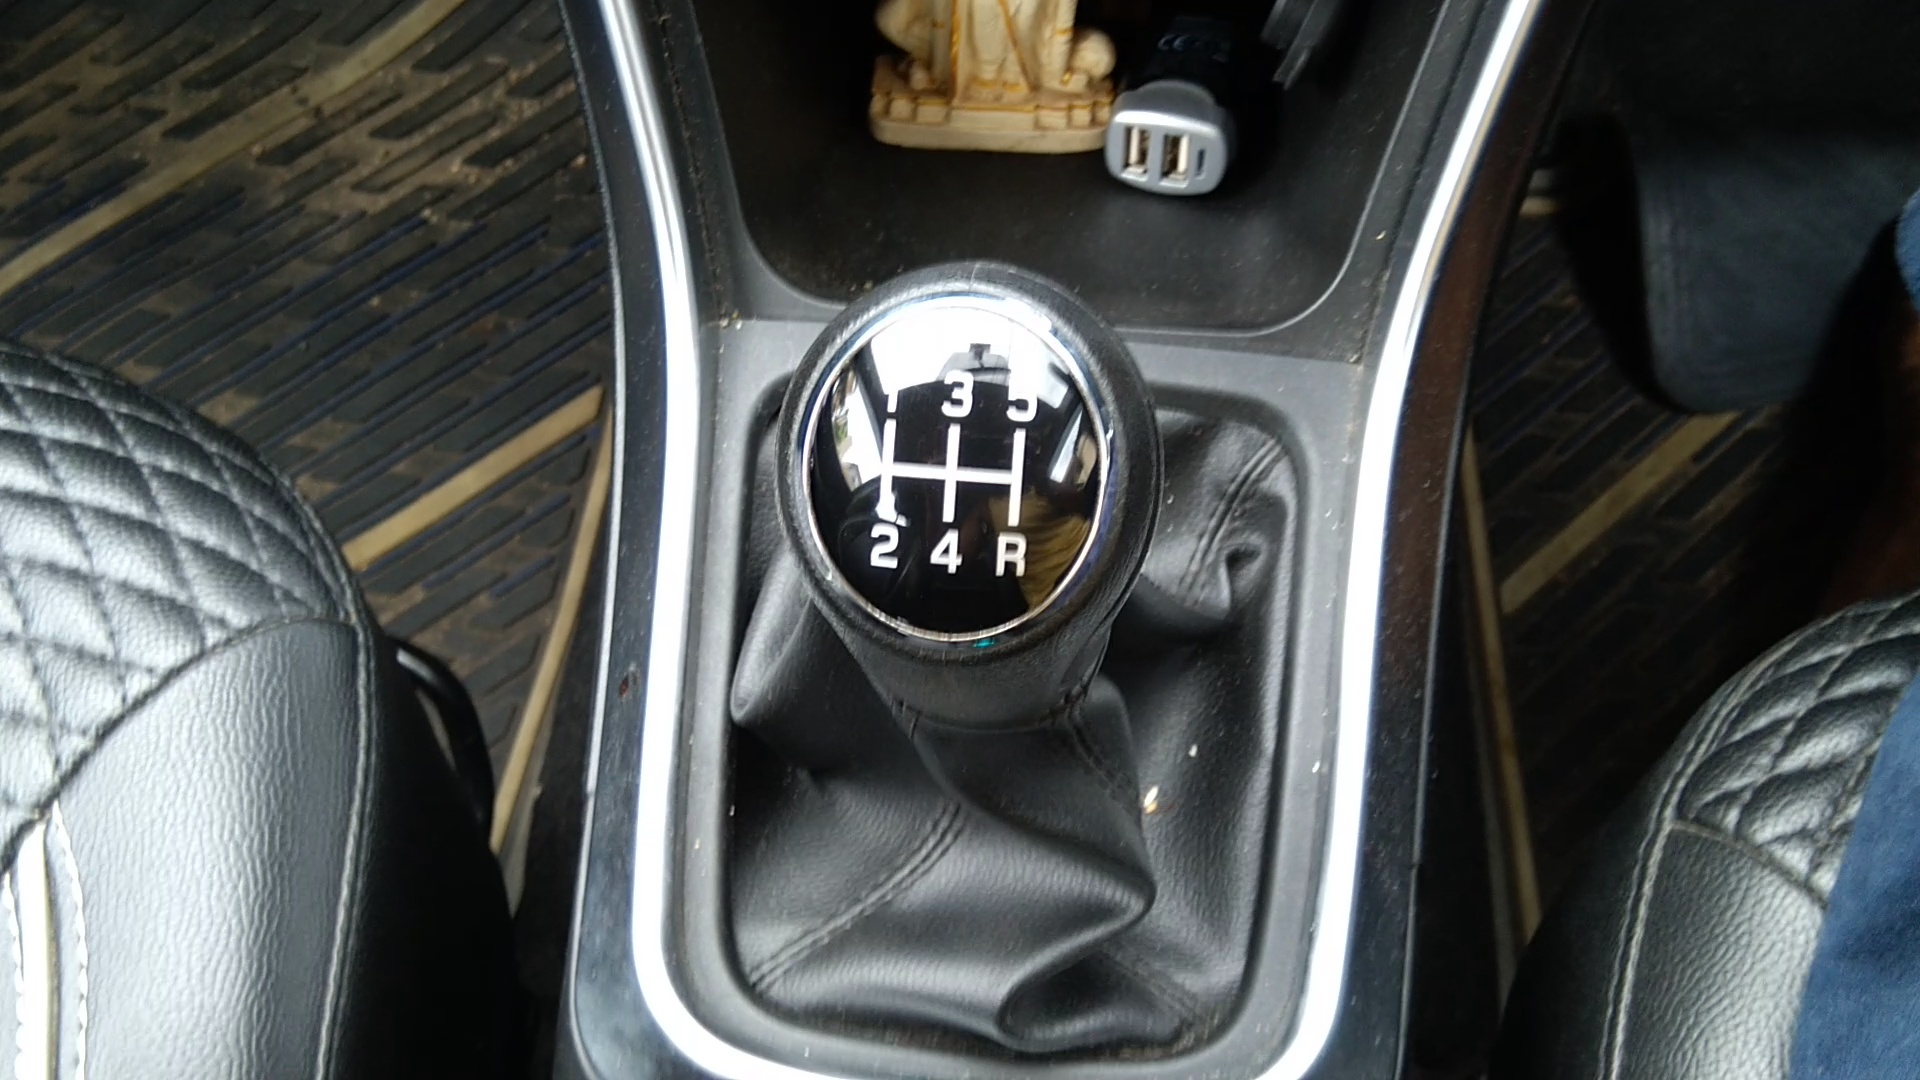manual_gear: (779, 257, 1160, 742)
